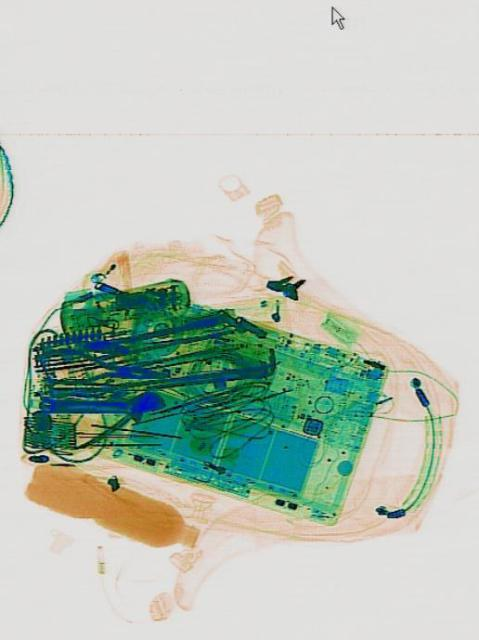Pliers: (39, 346, 162, 392)
